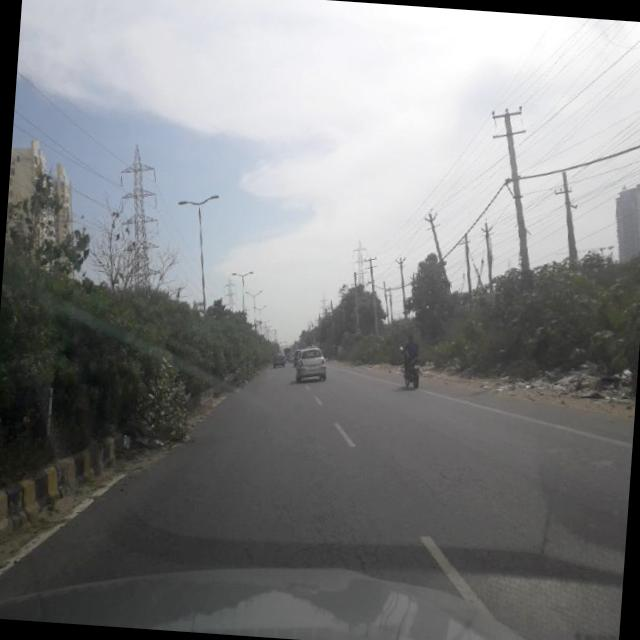crack: (27, 401, 632, 596)
